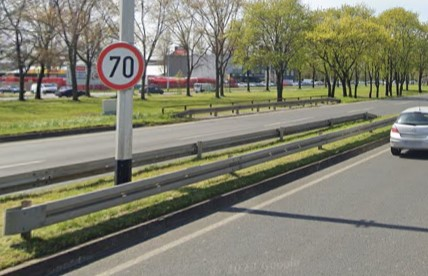Ograničenje brzine 70: (96, 42, 145, 90)
